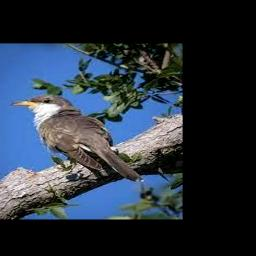Cuckoo: (12, 95, 145, 182)
